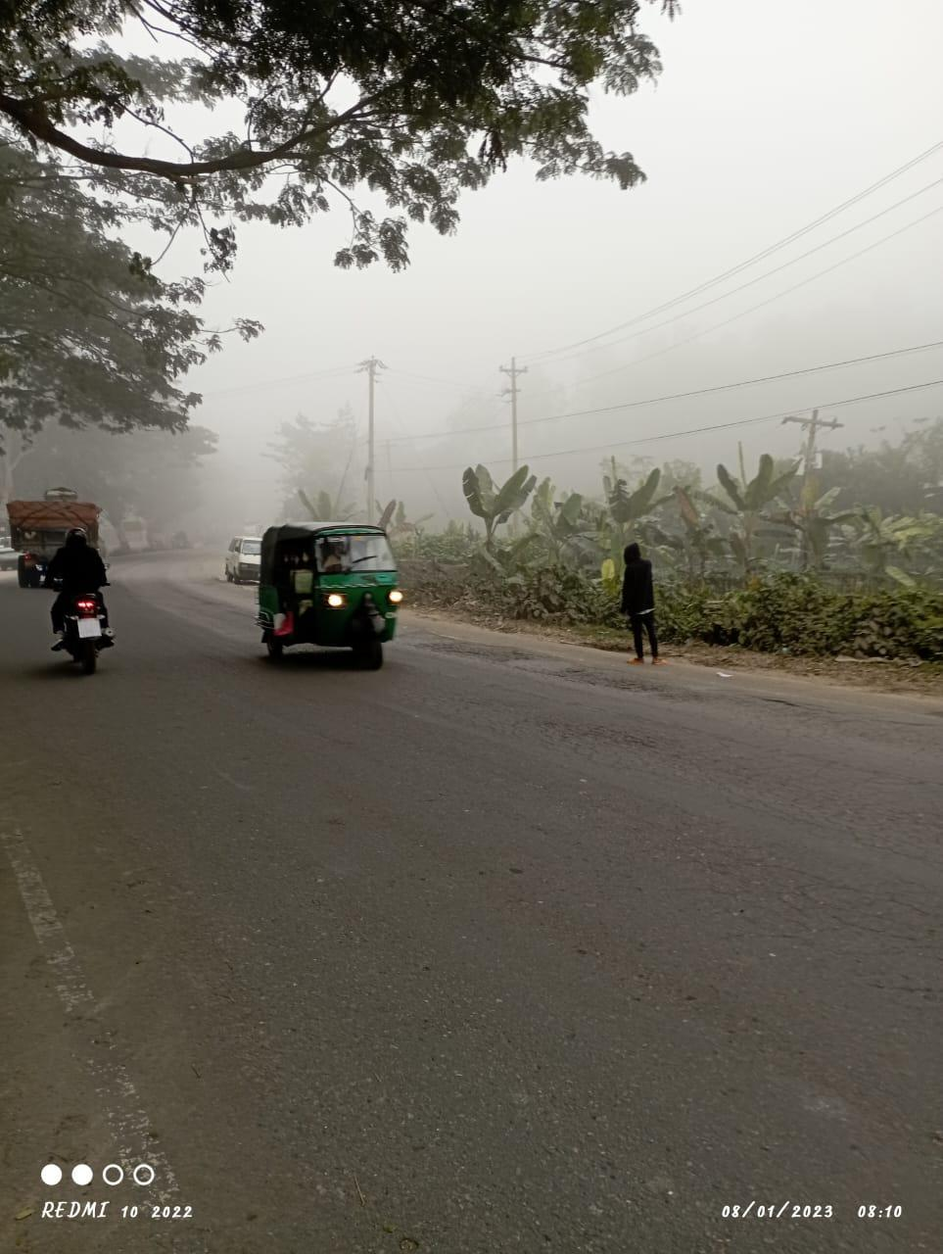Bike: (47, 521, 119, 678)
Car: (212, 520, 276, 588)
